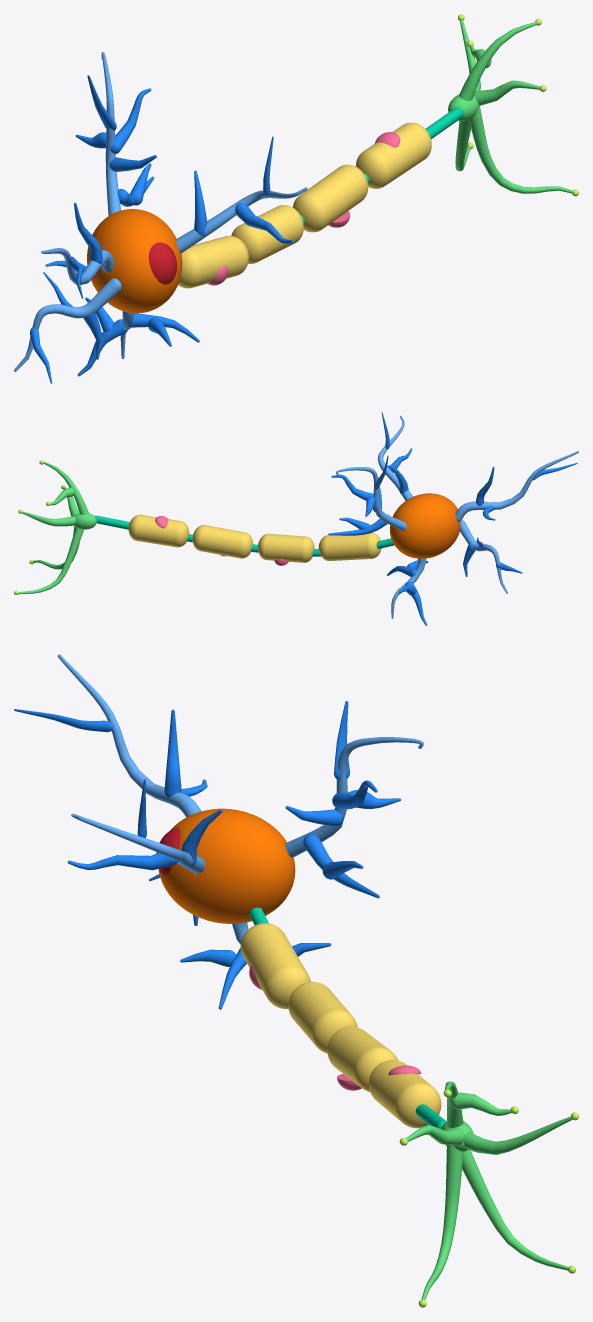
Rendered from Neurona_sala.glb.
3 views of the same model, one above another, from view 1: azimuth 30°, elevation 25°; view 2: azimuth 150°, elevation 25°; view 3: azimuth 270°, elevation 25° (orthographic). The views are drawn at different scales.
Visible parts, largest first — view 1: soma, myelin_sheath_03, myelin_sheath_04, myelin_sheath_01, myelin_sheath_02, dendrite_primary_02, axon_terminal_07, dendrite_primary_05, dendrite_primary_04, axon_terminal_05, nucleus, dendrite_primary_01 (+10 smaller); view 2: soma, myelin_sheath_03, myelin_sheath_01, myelin_sheath_04, myelin_sheath_02, dendrite_primary_01, dendrite_primary_04, axon_terminal_04, axon, dendrite_primary_02, dendrite_primary_05, axon_terminal_05 (+4 smaller); view 3: soma, myelin_sheath_01, myelin_sheath_04, myelin_sheath_02, myelin_sheath_03, dendrite_primary_01, axon_terminal_07, axon_terminal_04, dendrite_primary_04, dendrite_primary_05, axon_terminal_03, dendrite_18 (+2 smaller).
Boxes of the visible parts, bbox=[...] form: soma: bbox=[87, 209, 182, 313]; myelin_sheath_03: bbox=[293, 164, 368, 232]; myelin_sheath_04: bbox=[355, 122, 431, 188]; myelin_sheath_01: bbox=[178, 235, 248, 288]; myelin_sheath_02: bbox=[231, 205, 303, 263]; dendrite_primary_02: bbox=[14, 278, 121, 371]; axon_terminal_07: bbox=[470, 106, 573, 193]; dendrite_primary_05: bbox=[176, 187, 307, 253]; dendrite_primary_04: bbox=[101, 52, 120, 215]; axon_terminal_05: bbox=[459, 22, 537, 100]; nucleus: bbox=[148, 242, 177, 284]; dendrite_primary_01: bbox=[41, 248, 114, 284]; soma: bbox=[390, 493, 460, 558]; myelin_sheath_03: bbox=[192, 525, 253, 558]; myelin_sheath_01: bbox=[318, 532, 381, 560]; myelin_sheath_04: bbox=[128, 514, 189, 547]; myelin_sheath_02: bbox=[258, 533, 314, 562]; dendrite_primary_01: bbox=[455, 451, 578, 521]; dendrite_primary_04: bbox=[336, 467, 406, 530]; axon_terminal_04: bbox=[18, 527, 83, 594]; axon: bbox=[95, 515, 394, 556]; dendrite_primary_02: bbox=[460, 520, 507, 593]; dendrite_primary_05: bbox=[378, 415, 412, 500]; axon_terminal_05: bbox=[43, 461, 88, 514]; soma: bbox=[158, 808, 295, 923]; myelin_sheath_01: bbox=[240, 923, 310, 1008]; myelin_sheath_04: bbox=[369, 1060, 441, 1128]; myelin_sheath_02: bbox=[288, 982, 357, 1053]; myelin_sheath_03: bbox=[327, 1026, 398, 1091]; dendrite_primary_01: bbox=[57, 654, 201, 817]; axon_terminal_07: bbox=[421, 1145, 463, 1300]; axon_terminal_04: bbox=[462, 1150, 568, 1270]; dendrite_primary_04: bbox=[285, 737, 423, 857]; dendrite_primary_05: bbox=[71, 813, 205, 873]; axon_terminal_03: bbox=[464, 1116, 572, 1154]; dendrite_18: bbox=[67, 853, 178, 870].
Size of the model in its own units: 1 by 0.3773 by 0.6104.
